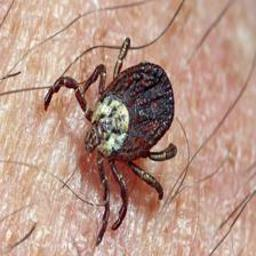Ixodes scapularis: (40, 37, 178, 243)
